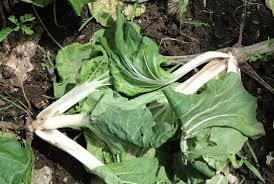Bok-Choy-Diseased: (55, 46, 111, 87)
